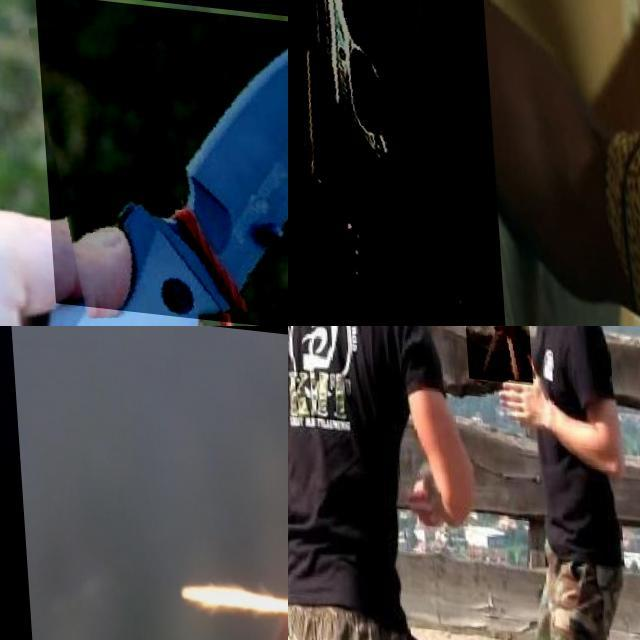-: (35, 0, 288, 326), (459, 326, 529, 382)
gun-knife-thesis - v11 Yolov5 augmented: (288, 0, 502, 326), (0, 326, 140, 640)
